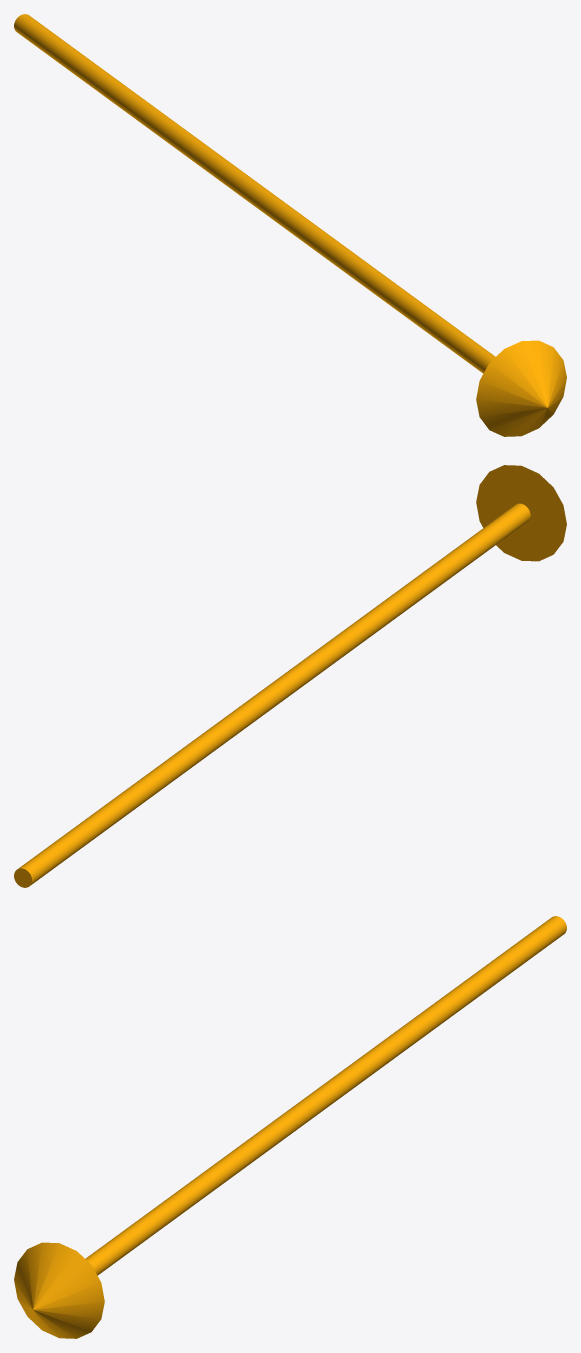
Rendered from vectoro.glb.
3 renders of one model, top to bottom at view 1: azimuth 30°, elevation 25°; view 2: azimuth 150°, elevation 25°; view 3: azimuth 330°, elevation 25°, orthographic.
Visible parts, largest first — view 1: Cylinder (×2); view 2: Cylinder (×2); view 3: Cylinder (×2).
Part boxes in pixels (left/top/right/bottom): Cylinder (×2): left=14, top=14, right=566, bottom=436; Cylinder (×2): left=14, top=465, right=566, bottom=887; Cylinder (×2): left=14, top=916, right=566, bottom=1338.
Size of the model in its own units: 0.1 by 0.1 by 1.
